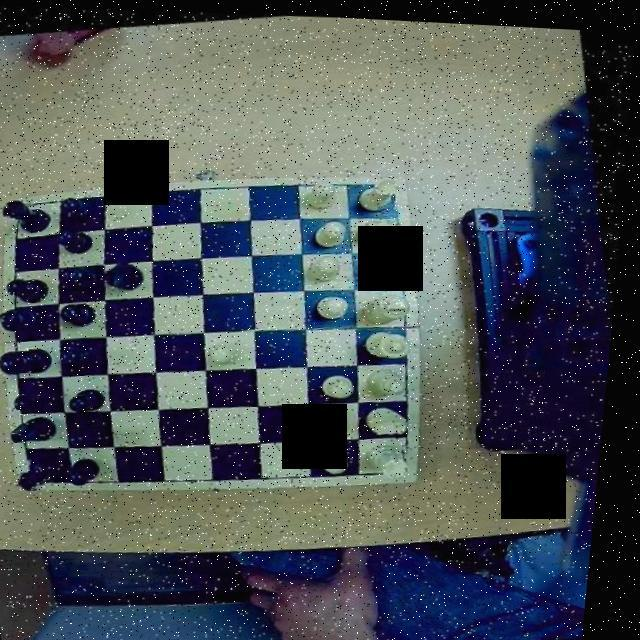chess-table-corners: (388, 442, 428, 480), (23, 455, 64, 490), (376, 172, 414, 208), (4, 198, 36, 226)
